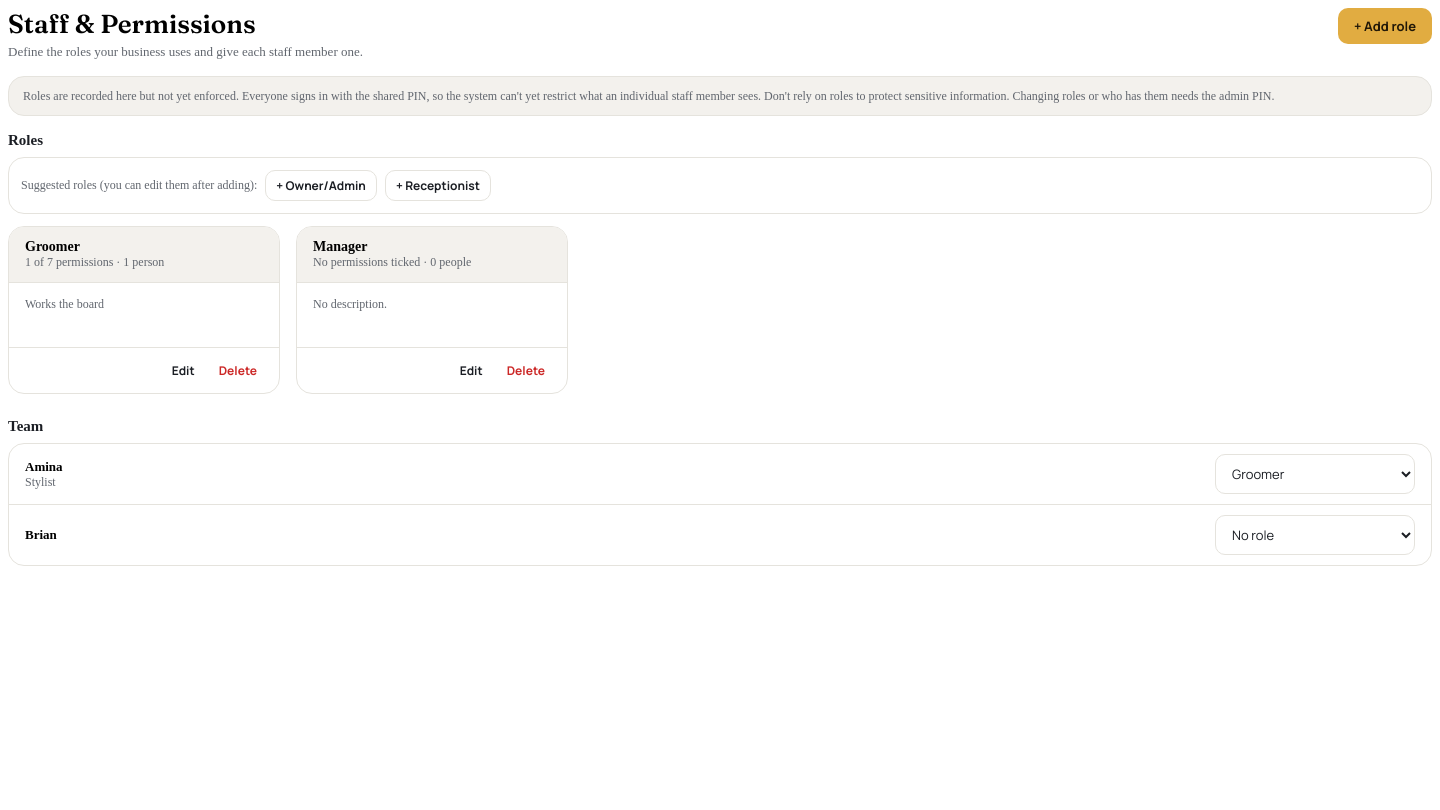
Scenario: StaffPage (roles and assignment) › does not show a role as assigned when the PIN is wrong
Check: the text "Amina" is shown, box [25,458,63,474]
Select "Manager" in the dropdown named "Role for Brian" at (1315, 535), box [1215,515,1415,555]
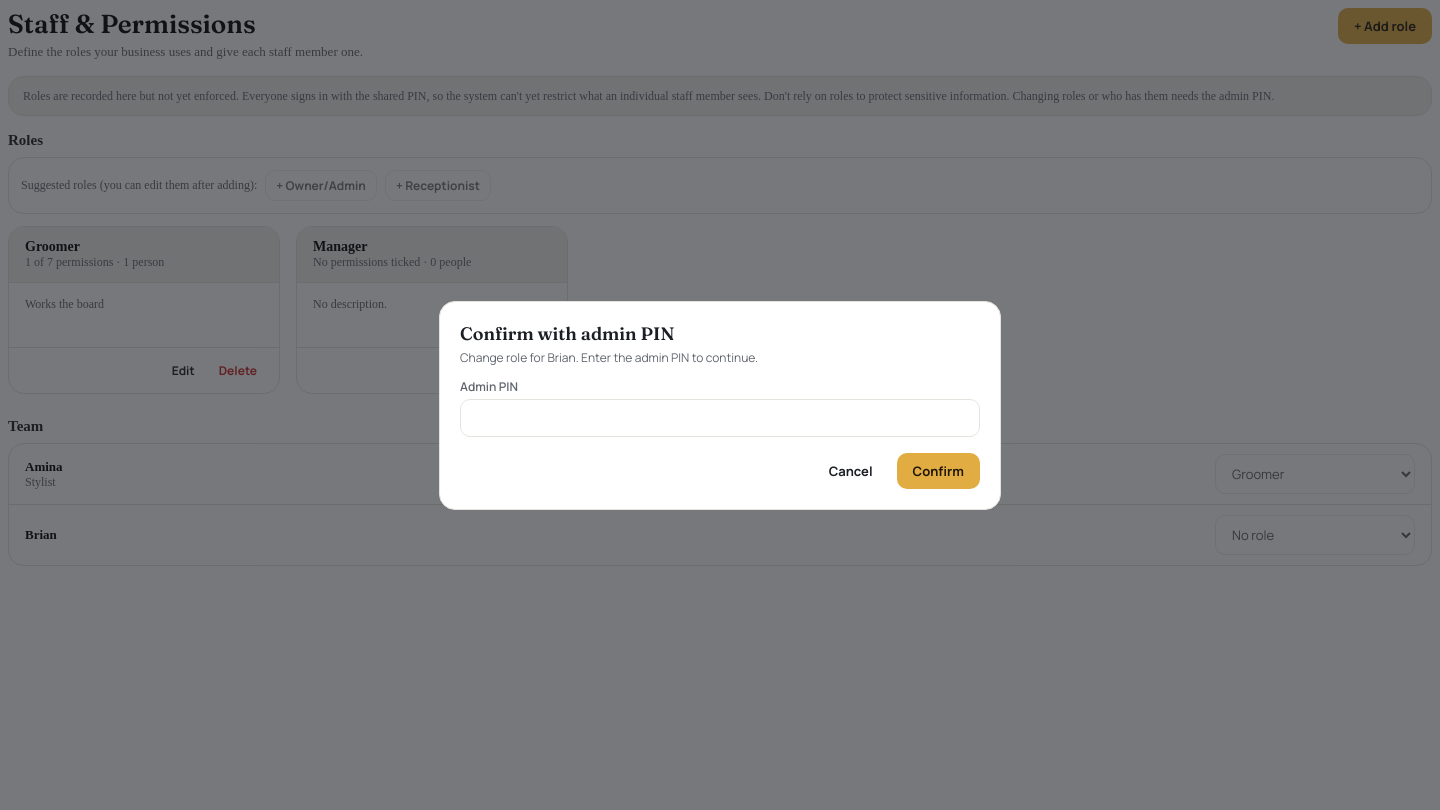
Type "0000" into the password field labelled "Admin PIN".
click(720, 418); type("0000")  # box [460,398,980,436]
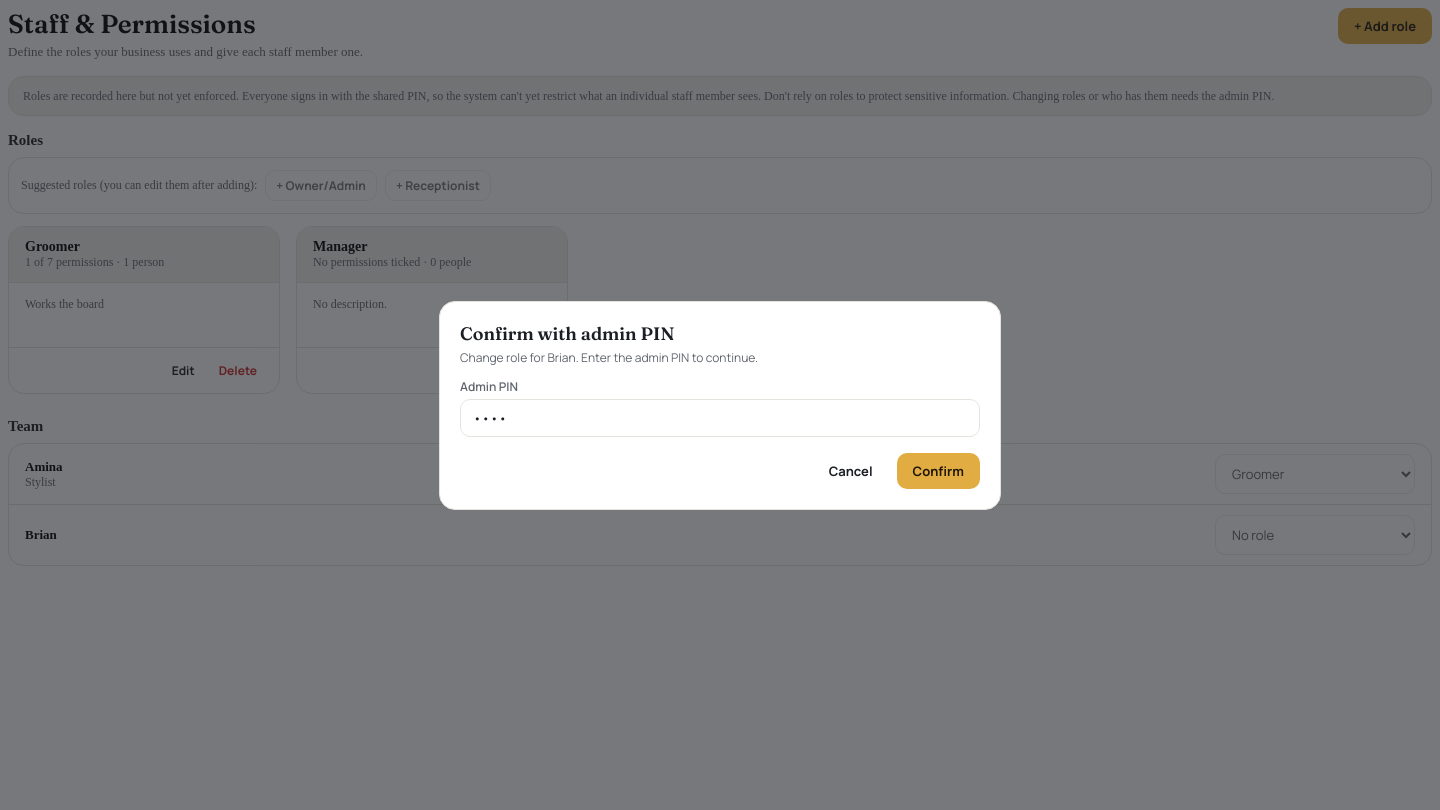
Click the button "Confirm".
click(938, 470)  # box [897,452,980,488]
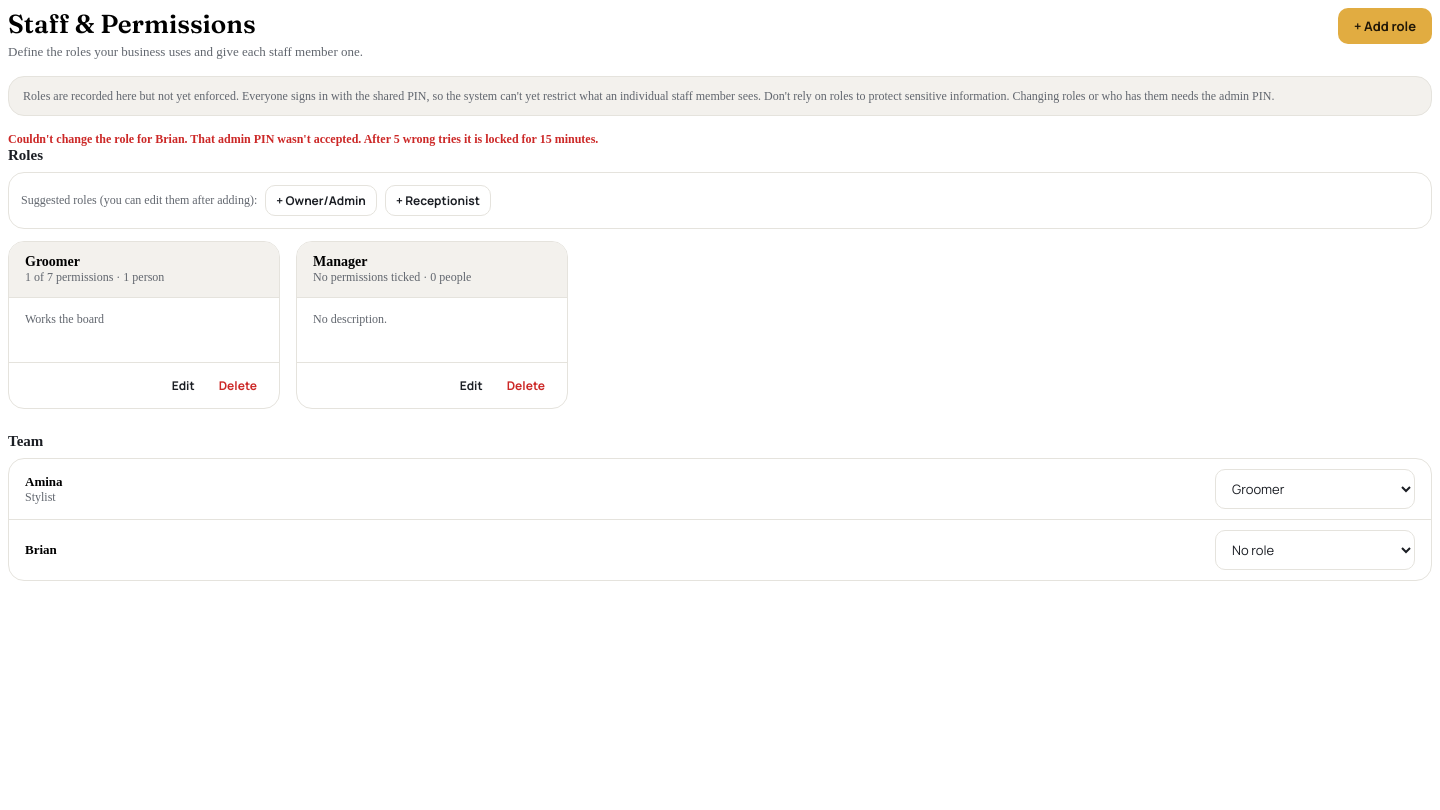
Check: the text "Couldn't change the role for Brian" is shown, box [8,132,598,146]
